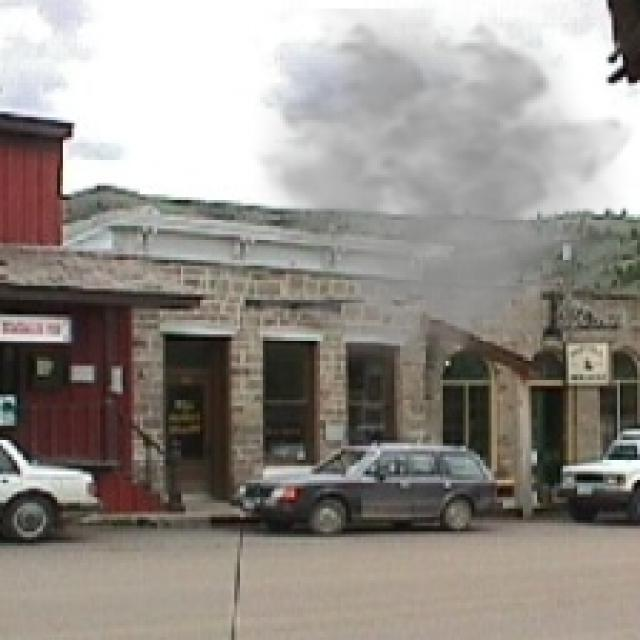Smoke: (248, 9, 638, 392)
